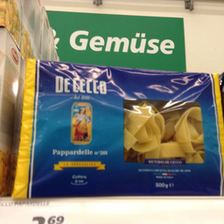pasta: (10, 59, 224, 198)
